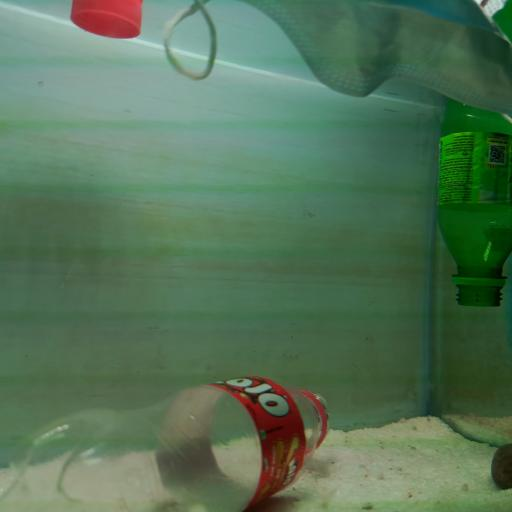bottle_cap: (71, 0, 141, 40)
mask: (163, 0, 512, 123)
plastic_bottle: (6, 375, 332, 509), (439, 4, 512, 308)
